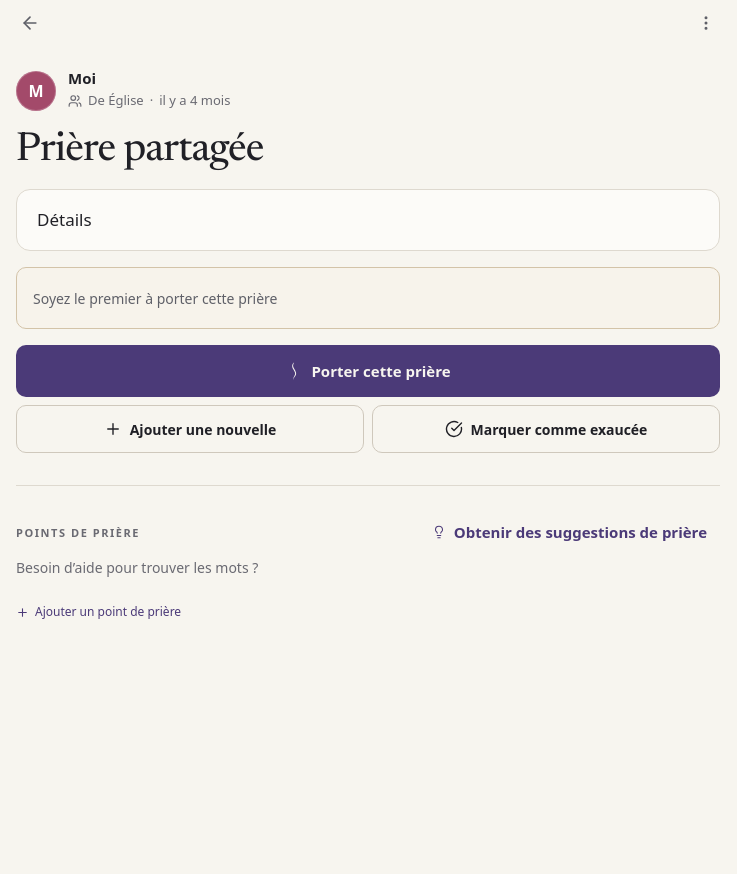
Test: PrayerDetail — the action row on a group request › keeps every flow folded until its tool is pressed
Expected: the button "Confirmer" is not shown
What coordinates should you click on to do the following:
click the button "Marquer comme exaucée"
I would click on:
 (546, 429)
Its box is [372,405,720,453].
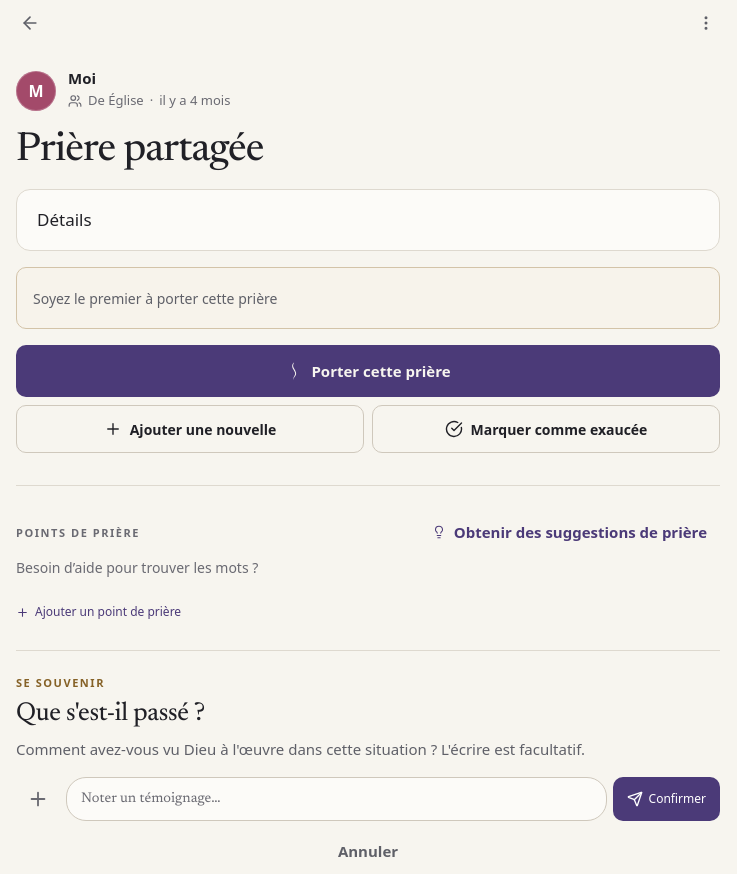
Expected: the button "Confirmer" is shown, [613,777,720,821]
Pressing the same tool again folds it away.
What coordinates should you click on to do the following:
click the button "Marquer comme exaucée"
I would click on:
 (546, 429)
Its box is [372,405,720,453].
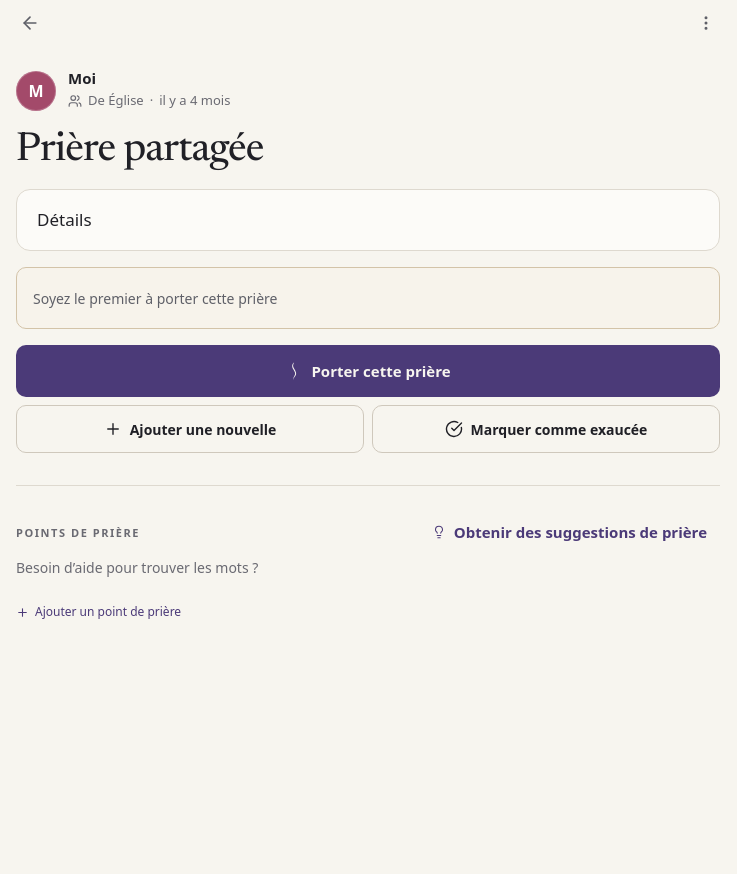
Expected: the button "Confirmer" is gone
